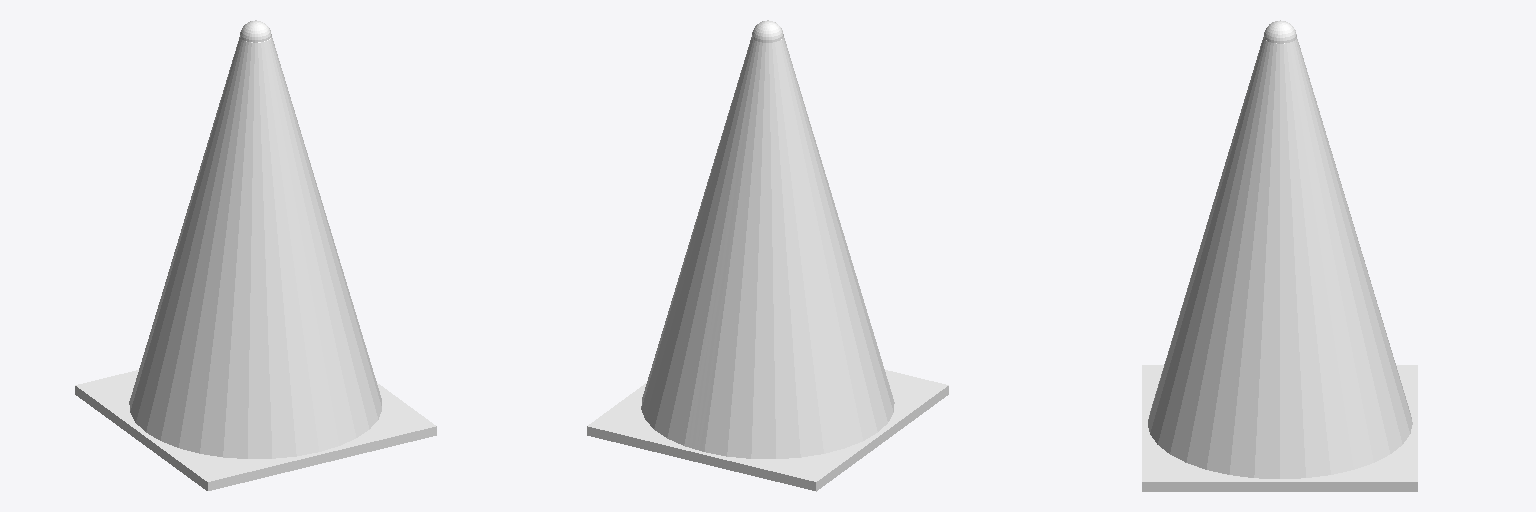
The robot description file, URDF, robot "cone":
<?xml version="1.0" ?>
<robot name="cone">
  <link name="coneLink">
  <contact>
      <lateral_friction value="1"/>
  </contact>
    <inertial>
      <origin rpy="0 0 0" xyz="0 0 0.1"/>
       <mass value="0"/>
       <inertia ixx="0.0001" ixy="0" ixz="0" iyy="0.0001" iyz="0" izz="0.0001"/>
    </inertial>
    <visual>
      <origin rpy="0 0 0" xyz="0 0 0"/>
      <geometry>
				<mesh filename="meshes/cone.obj" scale="1 1 1"/>
      </geometry>
       <material name="white">
        <color rgba="1 1 1 1"/>
      </material>
    </visual>
    <collision>
      <origin rpy="0 0 0" xyz="0 0 0"/>
      <geometry>
	 	    <mesh filename="meshes/cone.obj" scale="1 1 1"/>
      </geometry>
    </collision>
  </link>
</robot>


--- Render facts (derived) ---
The picture shows the robot from 3 angles, left to right: view 1: azimuth 30°, elevation 25°; view 2: azimuth 150°, elevation 25°; view 3: azimuth 270°, elevation 25°; orthographic projection.
Robot: cone — 1 links, 0 joints (none); root link coneLink; default pose: all joints at 0.
Links seen in each view (by area): view 1: coneLink; view 2: coneLink; view 3: coneLink.
Boxes of the visible links, x1,y1,x2,y2 form: coneLink: [75, 20, 436, 490]; coneLink: [587, 20, 948, 491]; coneLink: [1142, 20, 1417, 491].
Size in the robot's own frame: 0.13 by 0.13 by 0.2129 metres.
Meshes: 1 distinct files referenced, 1 mesh visuals loaded (1 OBJ).